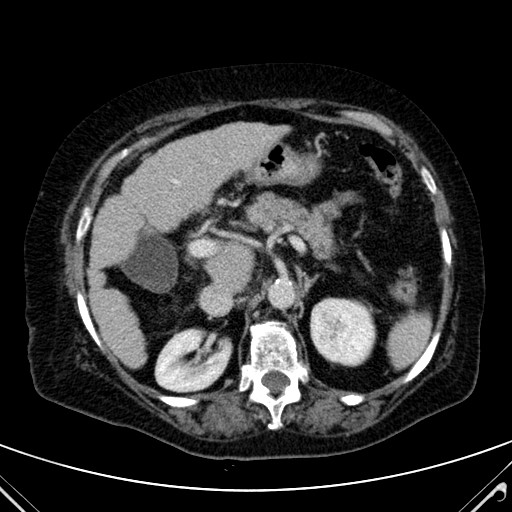vesicula: (116, 220, 180, 296)
